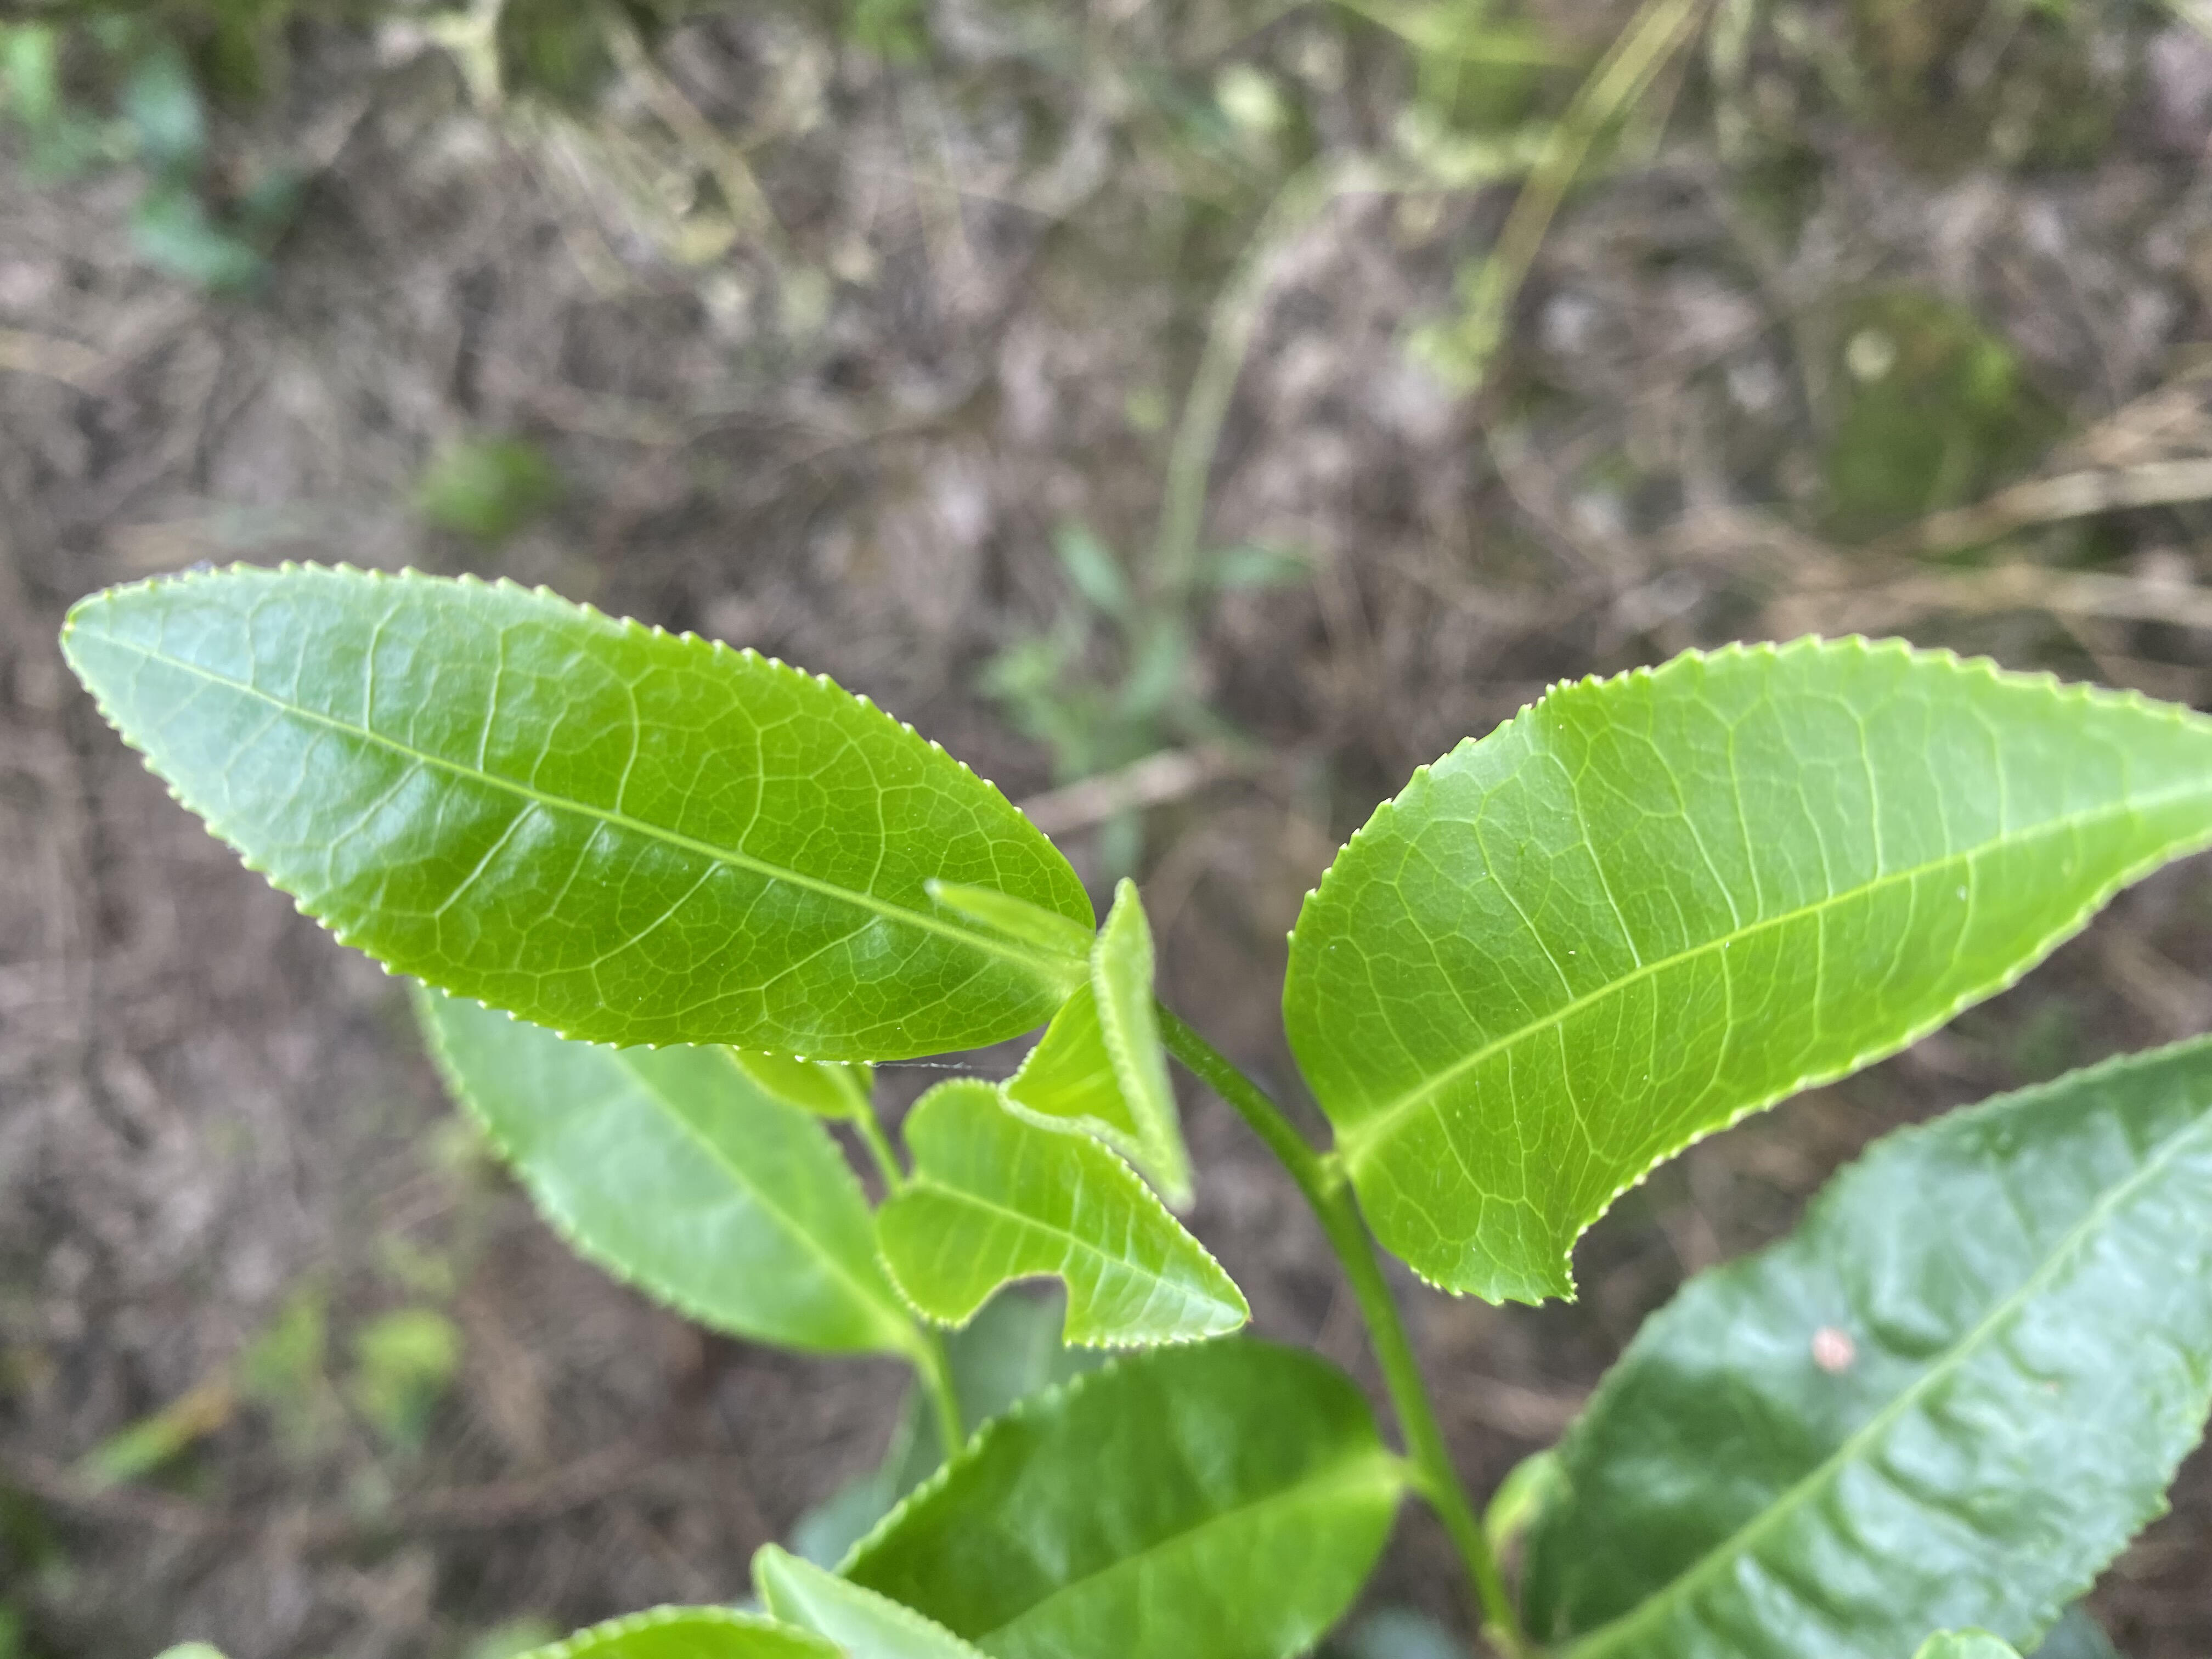chihuo_low: (871, 1079, 1252, 1354)
healthy: (1277, 634, 2210, 1310), (52, 563, 1097, 1063)
tanju_low: (1517, 1032, 2210, 1657)
